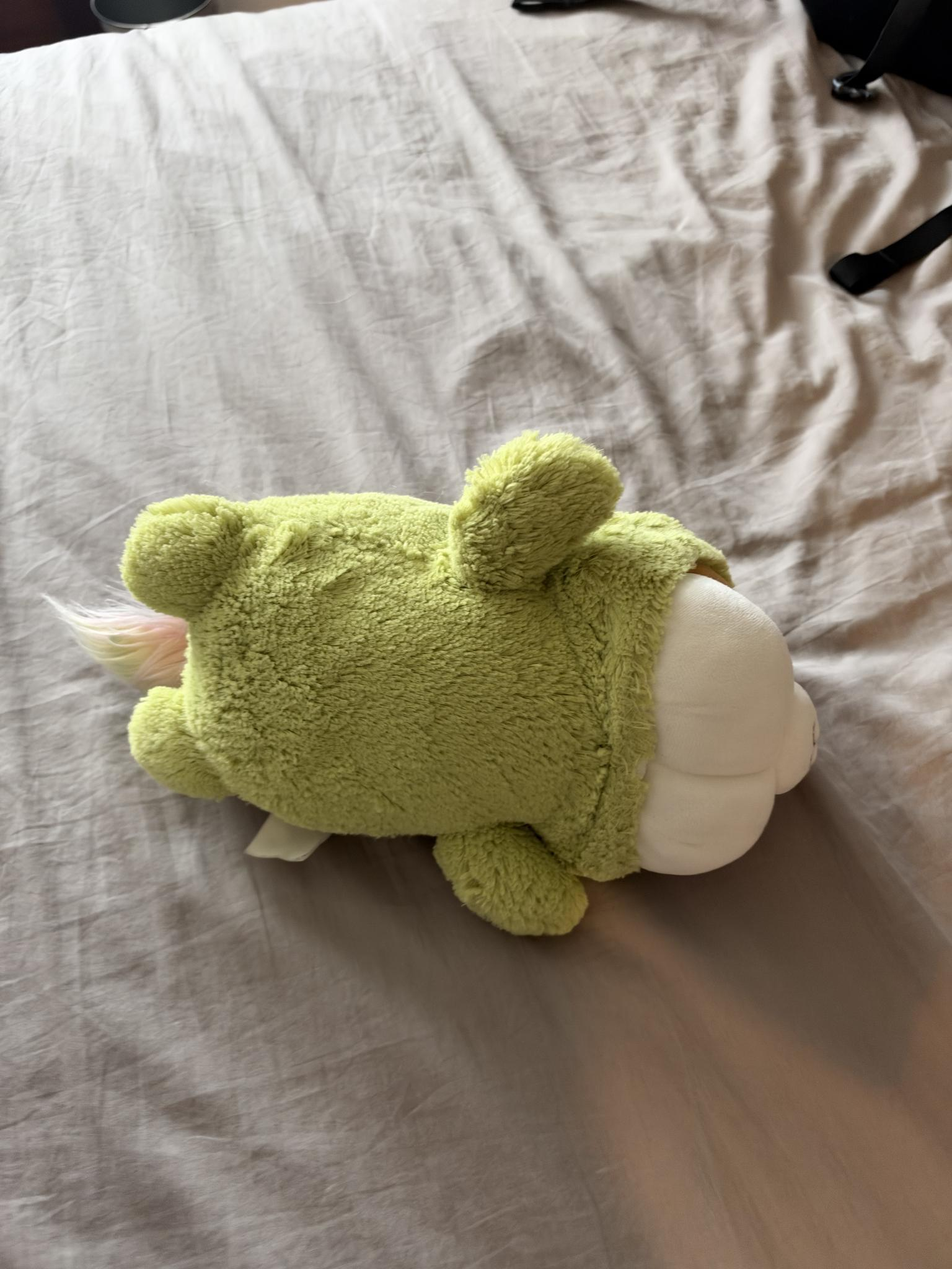peluche_martin: (38, 429, 820, 938)
